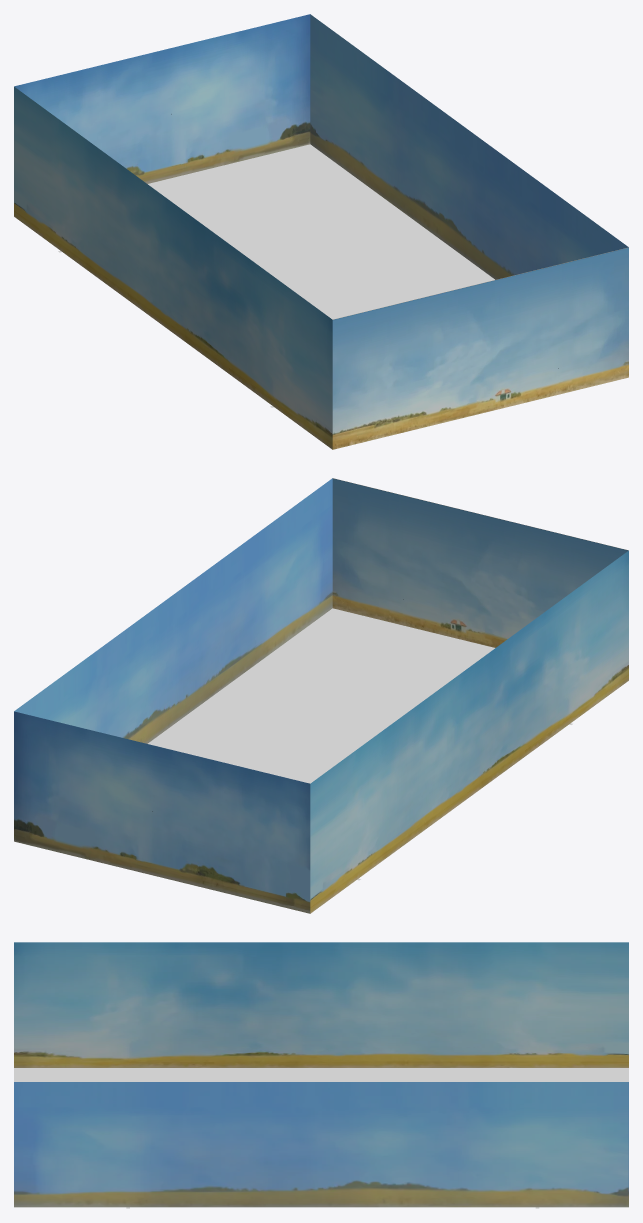
Rendered from GreenLightRenLight.fbx.
3 views of the same model, one above another, from view 1: azimuth 30°, elevation 25°; view 2: azimuth 150°, elevation 25°; view 3: azimuth 270°, elevation 25° (orthographic). The views are drawn at different scales.
Parts seen in each view (by area): view 1: Wall, Floor; view 2: Wall, Floor; view 3: Wall, Floor.
Boxes of the visible parts, x1,y1,x2,y2 form: Wall: [14, 14, 628, 449]; Floor: [148, 144, 494, 319]; Wall: [14, 478, 628, 913]; Floor: [148, 608, 494, 783]; Wall: [14, 942, 628, 1207]; Floor: [14, 1068, 628, 1081].
Bounding box in the file's own units: 12519 × 5163 × 22908.
